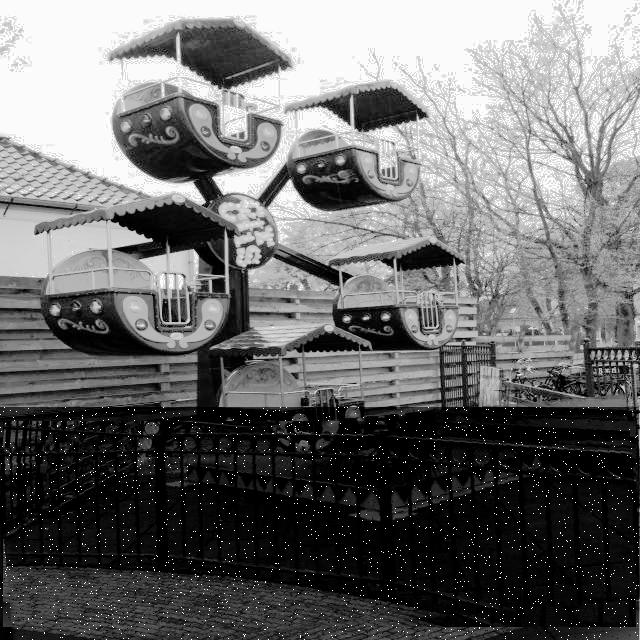fences: (0, 407, 639, 640)
